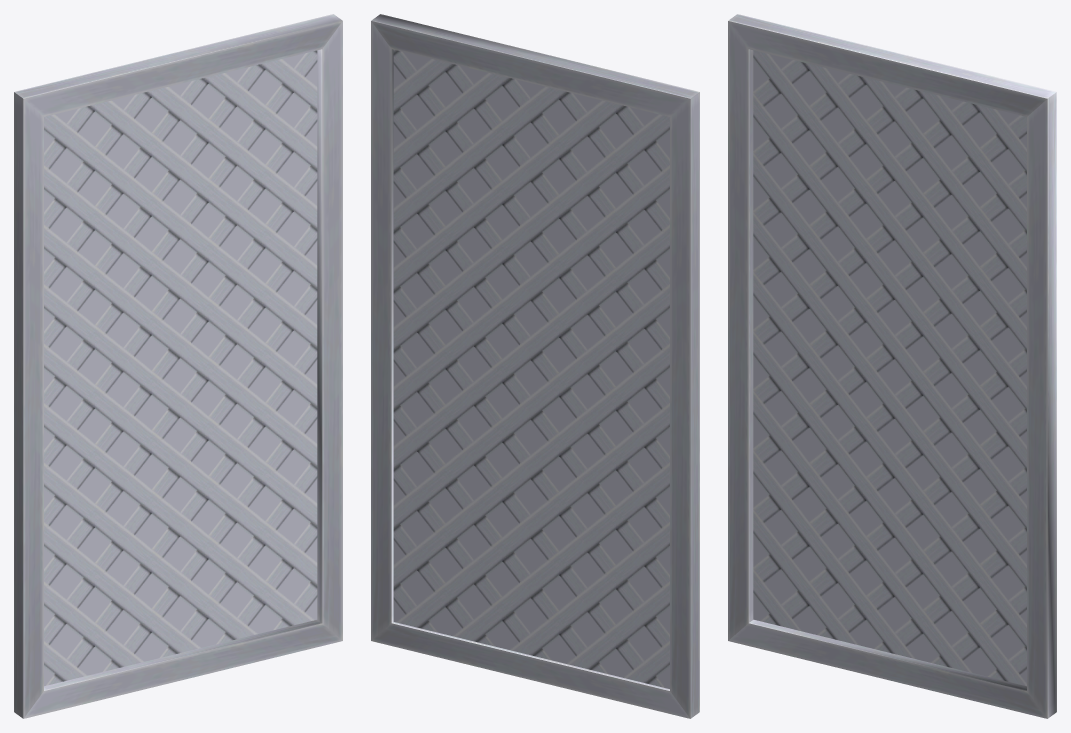
File: INST_HTOWN_LATTICE.fbx
3 views of the same model, side by side, from view 1: azimuth 30°, elevation 25°; view 2: azimuth 150°, elevation 25°; view 3: azimuth 330°, elevation 25° (orthographic).
Visible parts, largest first — view 1: INST_HTOWN_LATTICE; view 2: INST_HTOWN_LATTICE; view 3: INST_HTOWN_LATTICE.
Part boxes in pixels (x1,y1,x2,y2): INST_HTOWN_LATTICE: (14, 14, 342, 718); INST_HTOWN_LATTICE: (371, 14, 699, 718); INST_HTOWN_LATTICE: (728, 14, 1056, 718).
Bounding box in the file's own units: 8739 × 16209 × 444.
2 materials, 2 textured.
